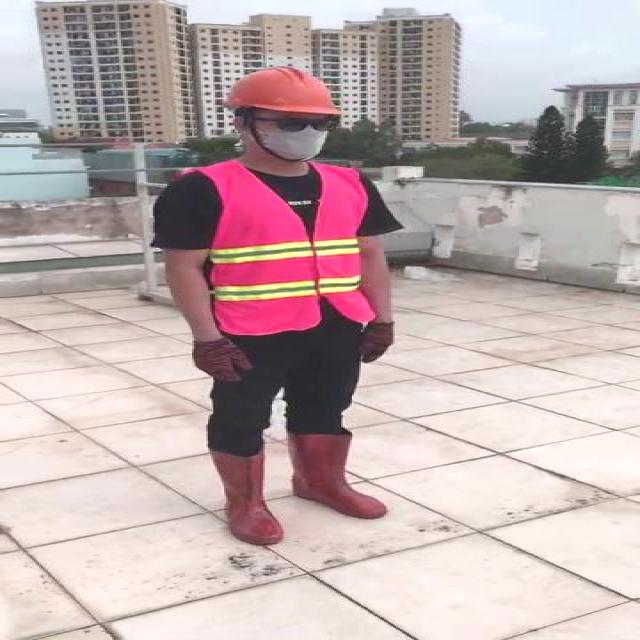boots: (286, 433, 386, 518), (210, 449, 282, 545)
face_mask: (258, 112, 340, 162)
glasses: (260, 112, 350, 136)
hand_glove: (190, 338, 252, 383), (358, 321, 397, 364)
head_helmet: (230, 66, 346, 121)
person: (148, 58, 402, 546)
vest: (203, 161, 375, 331)
